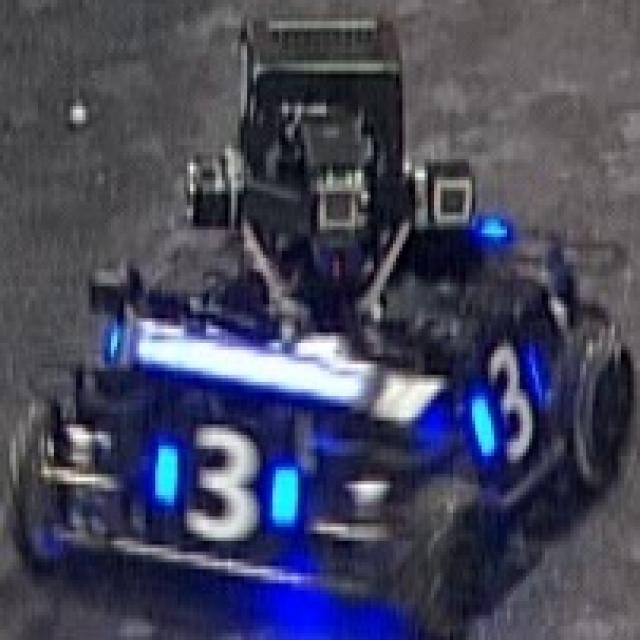B3: (149, 417, 301, 541), (466, 339, 548, 467)
